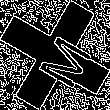M_NW: (21, 22, 89, 88)
